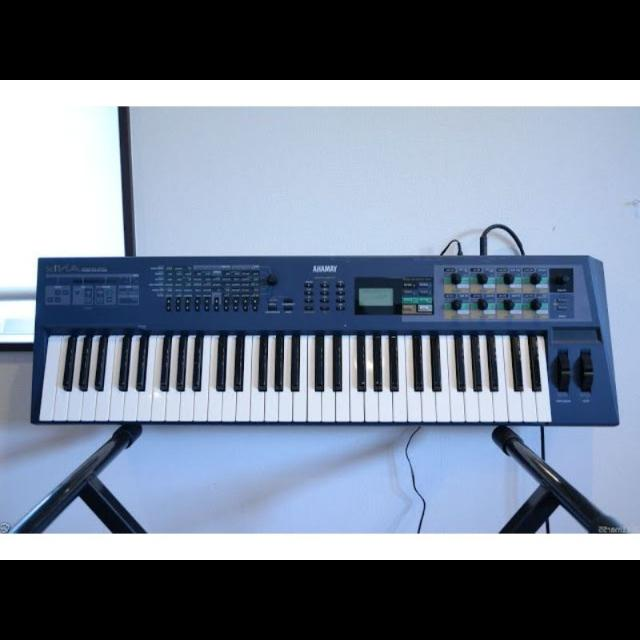Electronic-Keyboard: (22, 238, 626, 434)
